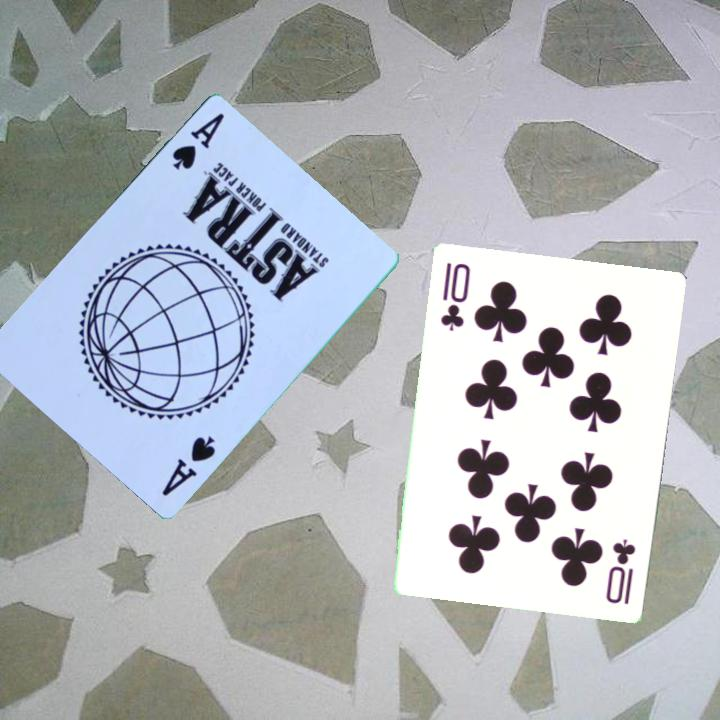10c: (437, 258, 473, 333), (602, 535, 638, 607)
As: (158, 433, 219, 500), (168, 110, 228, 174)
